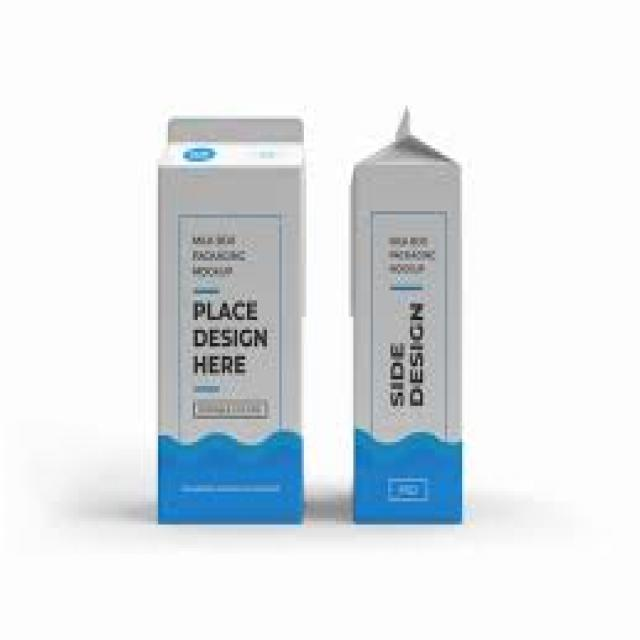non_white_jug: (154, 102, 325, 561), (340, 104, 473, 546)
